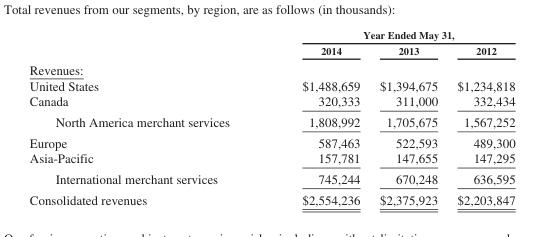table: (28, 28, 514, 206)
table column: (28, 28, 265, 206), (265, 28, 369, 206), (369, 28, 446, 206), (446, 28, 514, 206)
table column header: (28, 28, 514, 59)
table projected row header: (28, 59, 514, 77)
table row: (28, 111, 514, 131), (28, 168, 514, 188), (28, 131, 514, 150), (28, 59, 514, 77), (28, 93, 514, 111), (28, 150, 514, 168), (28, 188, 514, 206), (28, 42, 514, 59), (28, 77, 514, 93), (28, 28, 514, 42)
table spanning cell: (265, 28, 514, 42)
